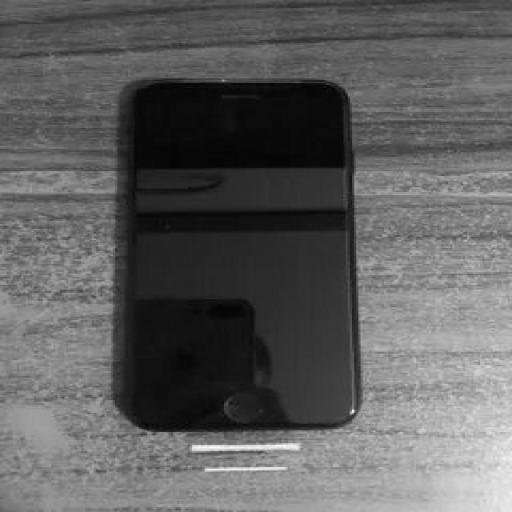phone: (104, 69, 357, 437)
